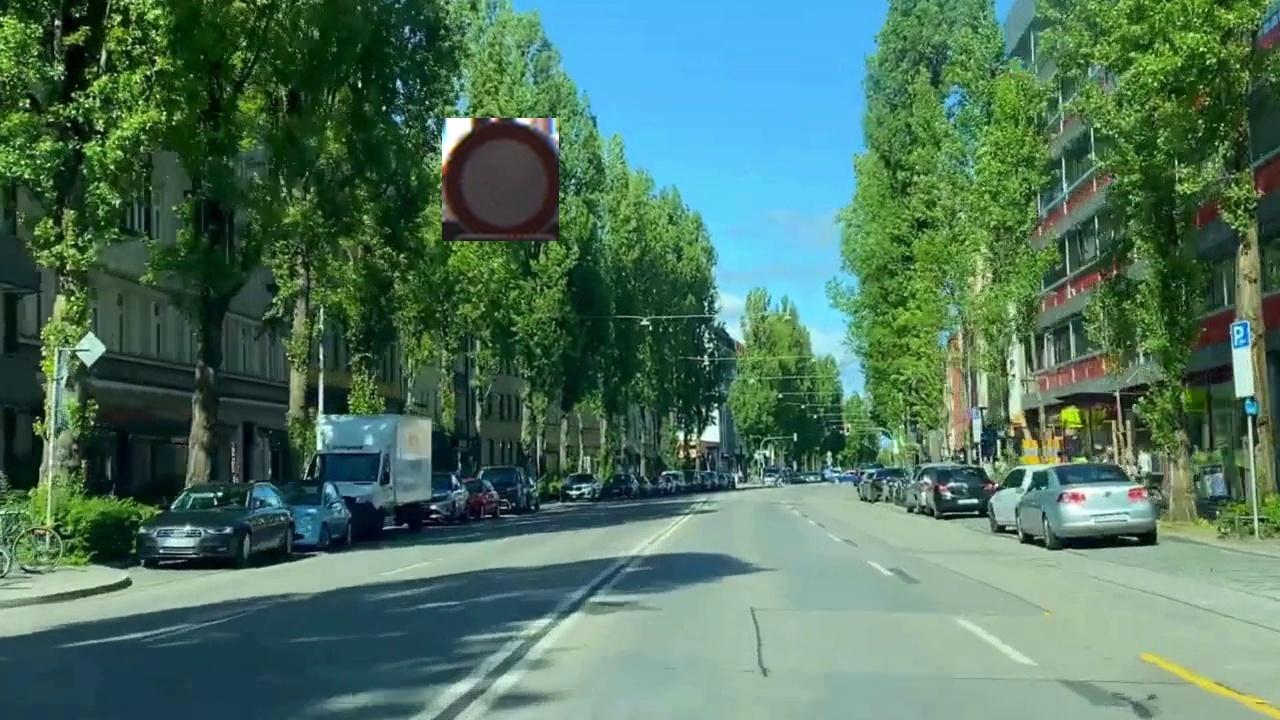No vehicles: (442, 118, 559, 241)
